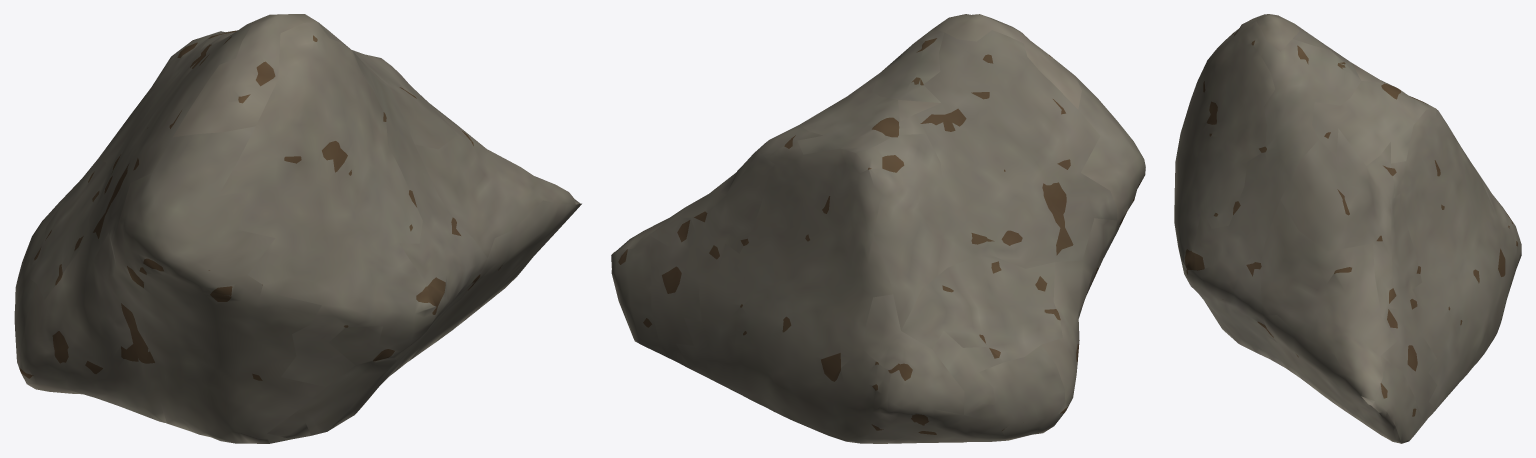
File: corealm_ore_grithe.glb
The picture shows the model from 3 angles, left to right: view 1: azimuth 30°, elevation 25°; view 2: azimuth 150°, elevation 25°; view 3: azimuth 270°, elevation 25°; orthographic projection. The views are drawn at different scales.
Parts seen in each view (by area): view 1: corealm_ore_grithe; view 2: corealm_ore_grithe; view 3: corealm_ore_grithe.
Boxes of the visible parts, <box> form: corealm_ore_grithe: <box>14,14,581,443</box>; corealm_ore_grithe: <box>611,14,1145,443</box>; corealm_ore_grithe: <box>1174,14,1521,443</box>.
Size of the model in its own units: 2.6 by 1.8 by 1.85.
Materials: 2 (2 with a texture image).
